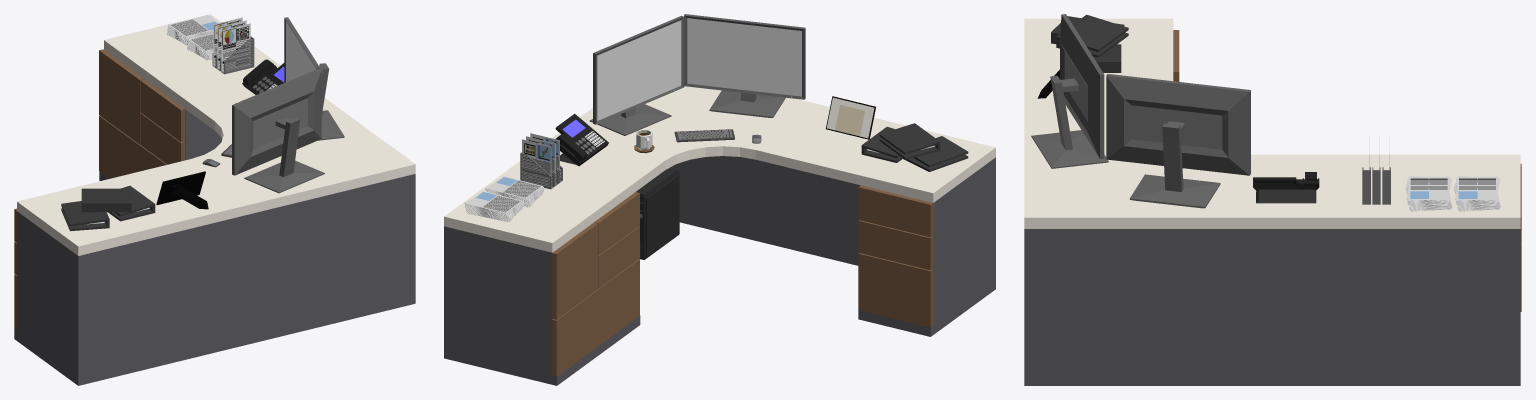
Rendered from corner_table_v1.glb.
The picture shows the model from 3 angles, left to right: view 1: azimuth 30°, elevation 25°; view 2: azimuth 150°, elevation 25°; view 3: azimuth 270°, elevation 25°; orthographic projection. The views are drawn at different scales.
Parts seen in each view (by area): view 1: Cubicle.015, Cube.002, MediumDrawer, BigDrawer, Cube.001, SmallDrawer1, SmallDrawer2, Cube.009, Cube.006, Plane.002, Cube.008, Cube.003 (+4 smaller); view 2: Cubicle.015, Cube.002, Cube.001, BigDrawer, MediumDrawer2, MediumDrawer, Computer, SmallDrawer3, SmallDrawer4, Cube.003, SmallDrawer1, Cube.006 (+9 smaller); view 3: Cubicle.015, Cube.001, Cube.002, Cube.003, Plane.005, Plane.003, Cube.009, Cube.007.
Boxes of the visible parts, x1,y1,x2,y2 form: Cubicle.015: (14, 14, 415, 385); Cube.002: (232, 68, 324, 193); MediumDrawer: (99, 49, 144, 144); BigDrawer: (99, 115, 167, 178); Cube.001: (284, 17, 344, 140); SmallDrawer1: (140, 79, 185, 142); SmallDrawer2: (140, 113, 185, 164); Cube.009: (81, 188, 131, 212); Cube.006: (156, 171, 208, 209); Plane.002: (221, 23, 250, 71); Cube.008: (61, 201, 109, 231); Cube.003: (242, 59, 284, 94); Cubicle.015: (444, 86, 995, 385); Cube.002: (684, 14, 805, 117); Cube.001: (589, 15, 684, 135); BigDrawer: (552, 259, 639, 376); MediumDrawer2: (858, 253, 933, 327); MediumDrawer: (552, 222, 598, 319); Computer: (636, 168, 679, 259); SmallDrawer3: (858, 185, 933, 237); SmallDrawer4: (858, 220, 933, 270); Cube.003: (555, 113, 608, 166); SmallDrawer1: (594, 192, 639, 255); Cube.006: (826, 96, 875, 139); Cubicle.015: (1024, 18, 1520, 385); Cube.001: (1106, 74, 1250, 208); Cube.002: (1031, 14, 1108, 168); Cube.003: (1253, 172, 1319, 203); Plane.005: (1405, 176, 1452, 211); Plane.003: (1454, 176, 1500, 211); Cube.009: (1056, 14, 1128, 57); Cube.007: (1093, 44, 1121, 72).
Bounding box in the file's own units: 1.9 × 1.22 × 2.01.
